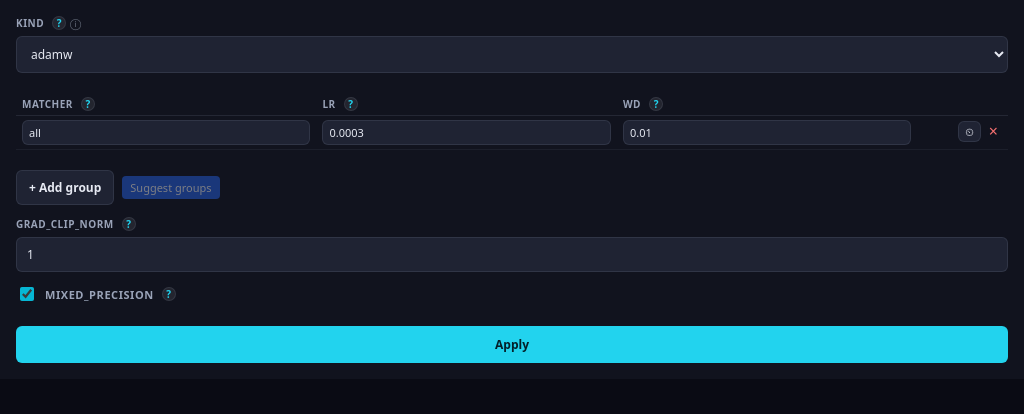
Test: OptimTab › Add group appends a row
Click the button with test id "optim-add-group". click: (65, 188)
box: [16,170,114,205]
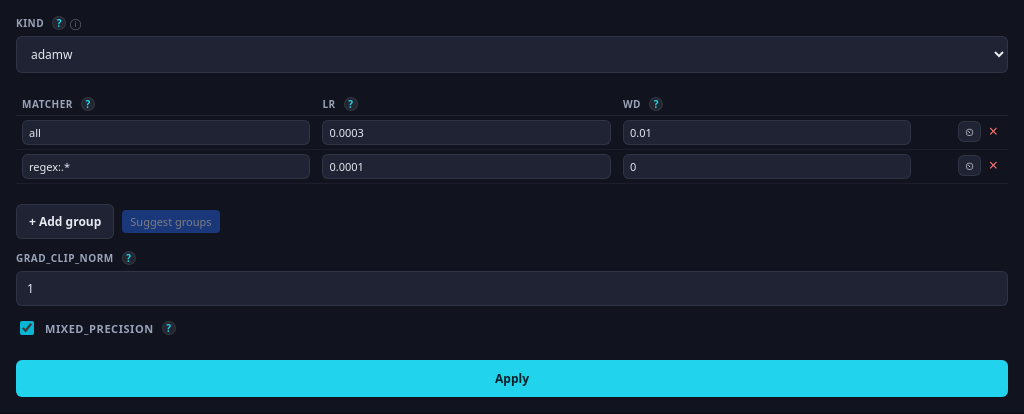
Now the row with test id "optim-group-1" is shown, box [16,150,1008,184]
